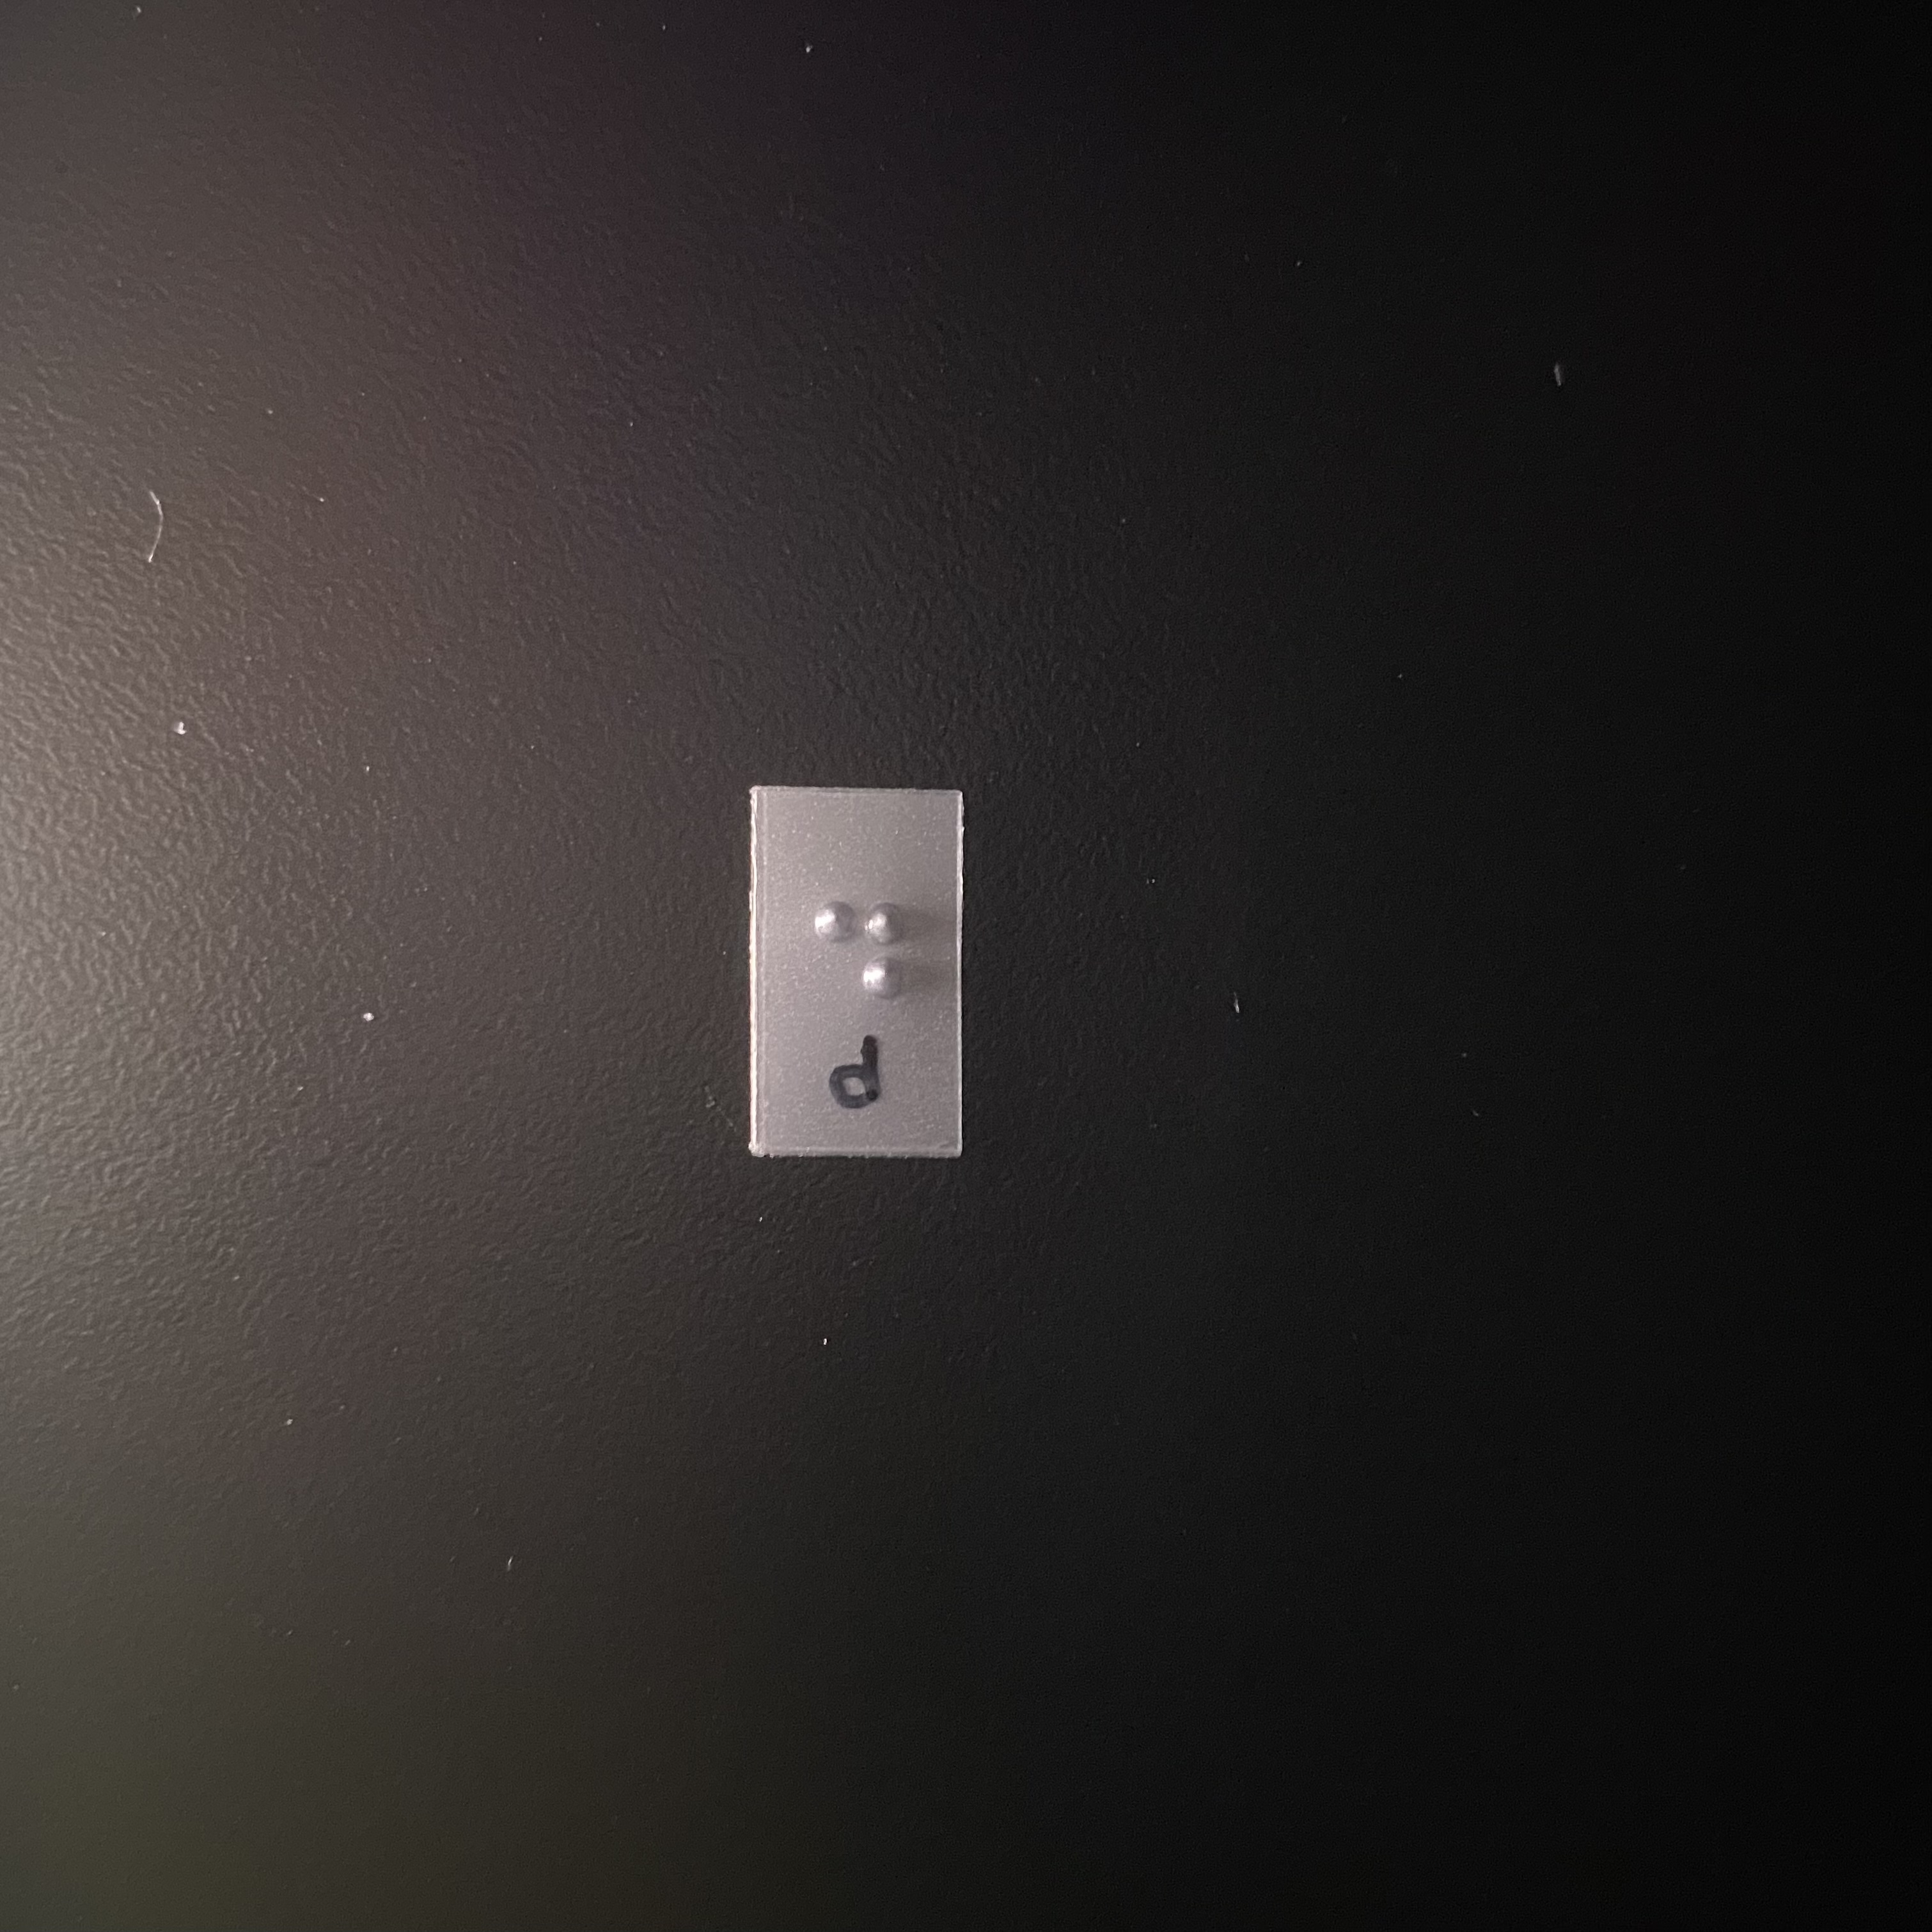d: (798, 872, 920, 1081)
